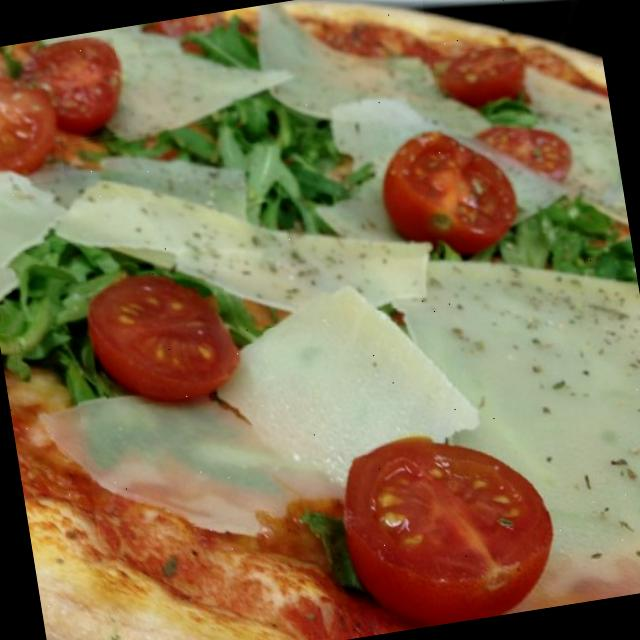basil: (222, 94, 353, 233), (1, 244, 102, 406), (514, 197, 636, 289), (296, 500, 366, 602), (70, 241, 150, 293), (198, 10, 260, 71), (218, 280, 264, 348)
cheese: (68, 280, 464, 540), (396, 220, 640, 622), (74, 133, 439, 354), (50, 3, 292, 145), (266, 0, 443, 157), (517, 57, 629, 238), (38, 147, 240, 239), (0, 159, 69, 307)
tomato: (335, 414, 568, 637), (373, 110, 527, 262), (90, 272, 236, 411), (5, 34, 128, 150), (0, 53, 66, 194), (476, 112, 582, 195), (432, 42, 531, 120)
